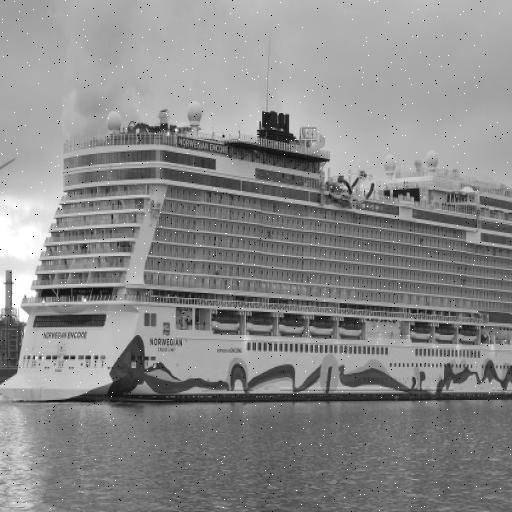cruises: (1, 110, 512, 418)
